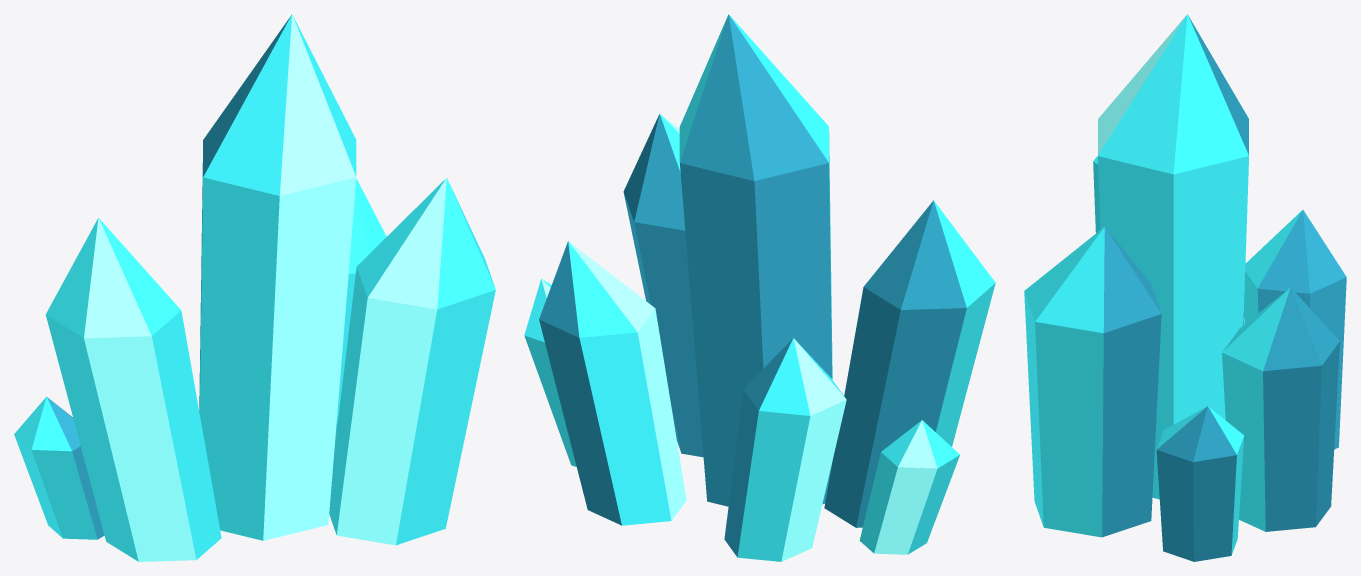
Rendered from minerals.glb.
The picture shows the model from 3 angles, left to right: view 1: azimuth 30°, elevation 25°; view 2: azimuth 150°, elevation 25°; view 3: azimuth 270°, elevation 25°; orthographic projection. The views are drawn at different scales.
Visible parts, largest first — view 1: Crystal00, Crystal02, Crystal01, Crystal06, Crystal03; view 2: Crystal00, Crystal01, Crystal03, Crystal04, Crystal02, Crystal06, Crystal05; view 3: Crystal00, Crystal02, Crystal03, Crystal05, Crystal04, Crystal01.
Part boxes in pixels (x1,y1,x2,y2): Crystal00: [199, 14, 356, 540]; Crystal02: [329, 178, 495, 545]; Crystal01: [45, 218, 221, 561]; Crystal06: [14, 396, 104, 539]; Crystal03: [334, 178, 386, 449]; Crystal00: [679, 14, 832, 506]; Crystal01: [824, 200, 995, 527]; Crystal03: [539, 241, 686, 525]; Crystal04: [724, 338, 846, 561]; Crystal02: [623, 114, 703, 457]; Crystal06: [859, 420, 959, 554]; Crystal05: [524, 278, 576, 466]; Crystal00: [1098, 14, 1248, 499]; Crystal02: [1024, 226, 1161, 537]; Crystal03: [1222, 287, 1339, 531]; Crystal05: [1156, 406, 1244, 561]; Crystal04: [1244, 210, 1346, 449]; Crystal01: [1093, 156, 1100, 232].
Bounding box in the file's own units: 3.81 × 3.9 × 2.4.
